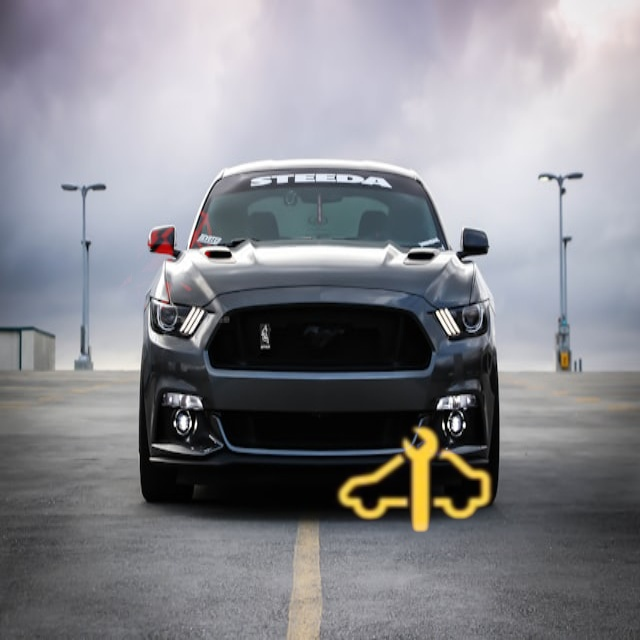symbol: (314, 383, 513, 582), (94, 189, 235, 330)
